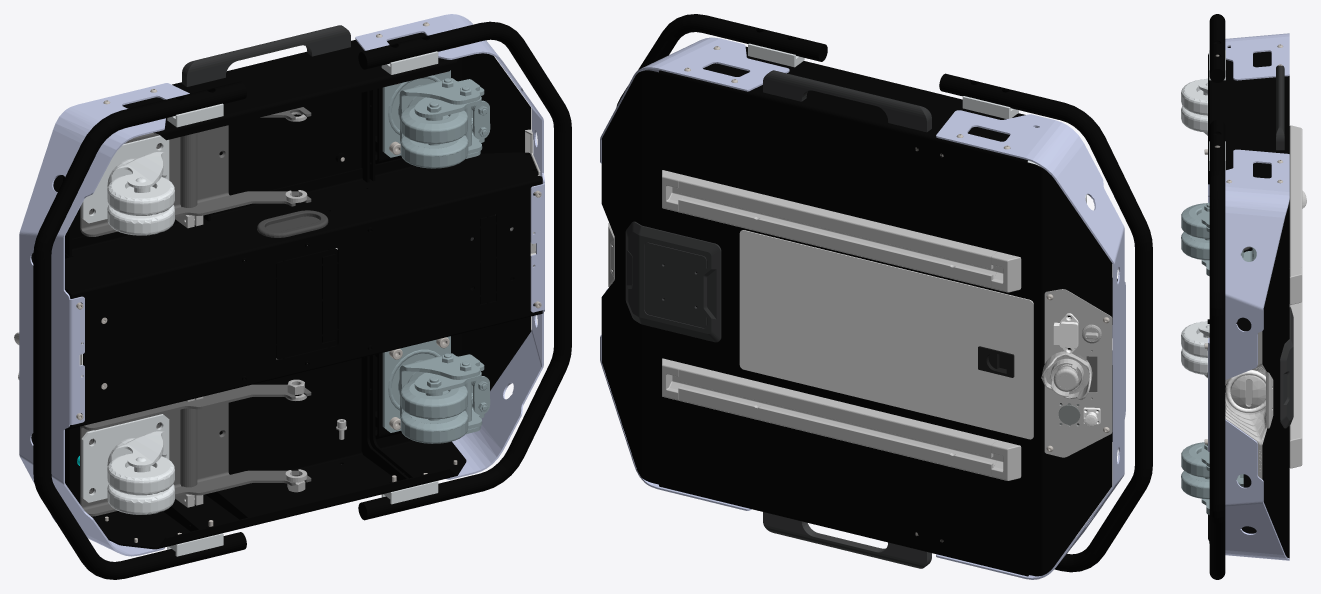
File: tracer.dae
3 views of the same model, side by side, from view 1: azimuth 30°, elevation 25°; view 2: azimuth 150°, elevation 25°; view 3: azimuth 270°, elevation 25° (orthographic). The views are drawn at different scales.
Visible parts, largest first — view 1: node31, node39, node38, node40, node33, node0, node100, node15, node96, node77, node81, node14 (+3 smaller); view 2: node31, node32, node4, node50, node39, node38, node18, node82, node33, node40, node14, node48 (+5 smaller); view 3: node33, node31, node40, node17, node50, node39, node4, node15, node0, node96, node77, node18 (+3 smaller).
Part boxes in pixels (<box>): node31: <box>31,32,542,549</box>; node39: <box>19,83,189,556</box>; node38: <box>33,81,246,579</box>; node40: <box>358,21,571,520</box>; node33: <box>355,14,544,479</box>; node0: <box>382,336,490,443</box>; node100: <box>80,384,311,516</box>; node15: <box>382,70,490,168</box>; node96: <box>81,414,174,514</box>; node77: <box>81,135,174,235</box>; node81: <box>80,107,311,236</box>; node14: <box>182,25,350,86</box>; node31: <box>601,46,1117,576</box>; node32: <box>739,230,1033,439</box>; node4: <box>662,358,1021,480</box>; node50: <box>662,170,1021,292</box>; node39: <box>936,110,1125,579</box>; node38: <box>939,73,1152,572</box>; node18: <box>625,221,721,342</box>; node82: <box>1044,289,1112,457</box>; node33: <box>600,37,789,510</box>; node40: <box>616,14,827,106</box>; node14: <box>763,70,931,132</box>; node48: <box>763,512,931,568</box>; node33: <box>1208,149,1289,560</box>; node31: <box>1207,46,1289,558</box>; node40: <box>1209,120,1225,579</box>; node17: <box>1225,331,1273,478</box>; node50: <box>1289,125,1302,304</box>; node39: <box>1208,33,1289,202</box>; node4: <box>1289,301,1302,468</box>; node15: <box>1181,202,1256,276</box>; node0: <box>1181,442,1243,514</box>; node96: <box>1181,321,1209,377</box>; node77: <box>1181,78,1207,135</box>; node18: <box>1280,307,1293,428</box>.
Bounding box in the file's own units: 0.685 × 0.1606 × 0.57.
